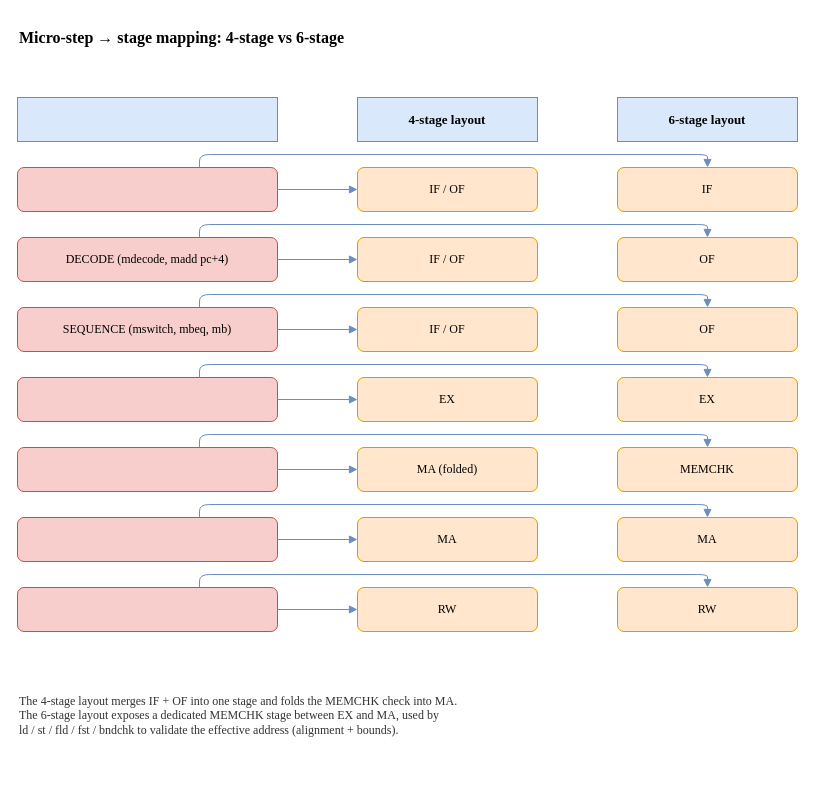
Image size: 815x794. Some labels were removed from this diagram. The box of each missing label's shape, as (x1, y1, x2, y2) in pixels:
CHECK (memchk effective address): (16, 446, 278, 492)
EXECUTE (ALU / FPU ops): (16, 376, 278, 422)
FETCH (mloadIR): (16, 166, 278, 212)
MEMORY (mar/mdr load-store): (16, 516, 278, 562)
StageClass (micro-step tag): (16, 96, 278, 142)
WRITEBACK (regfile / FPR write): (16, 586, 278, 632)
